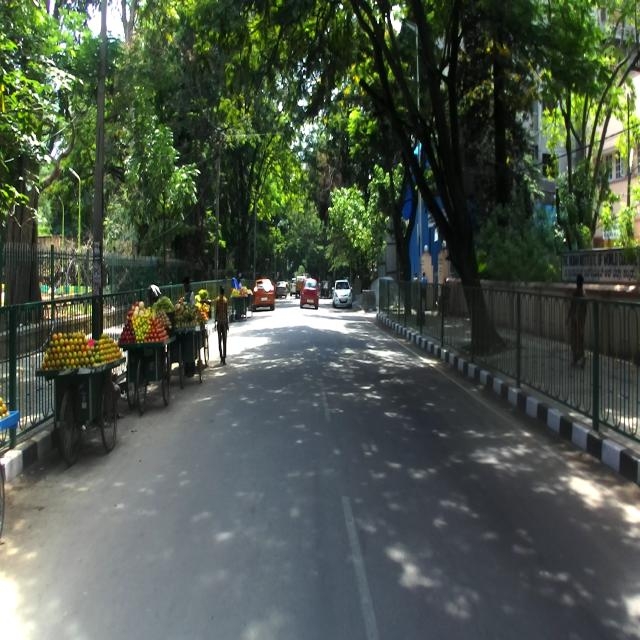person ahead at: (213, 289, 230, 361)
